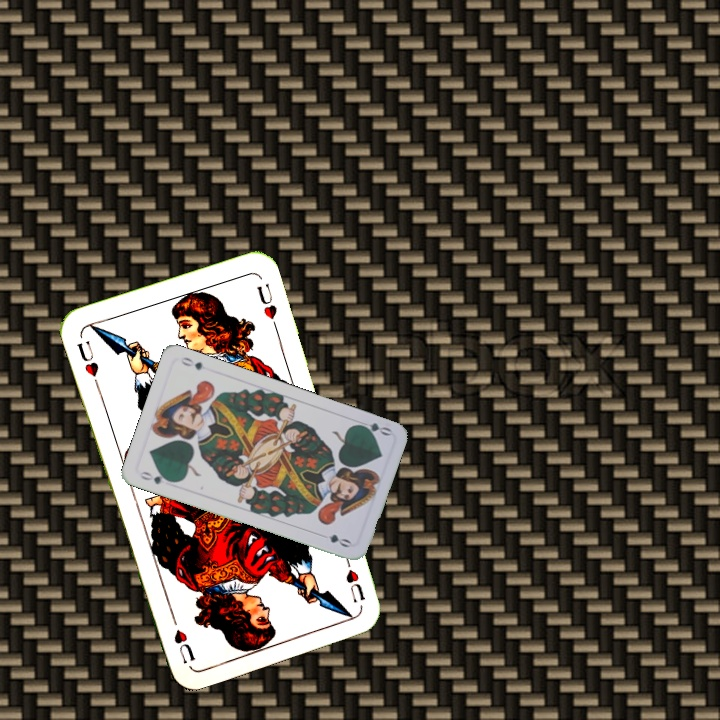GO: (353, 418, 394, 438), (136, 467, 176, 487)
HU: (73, 337, 102, 390), (341, 565, 368, 605)
